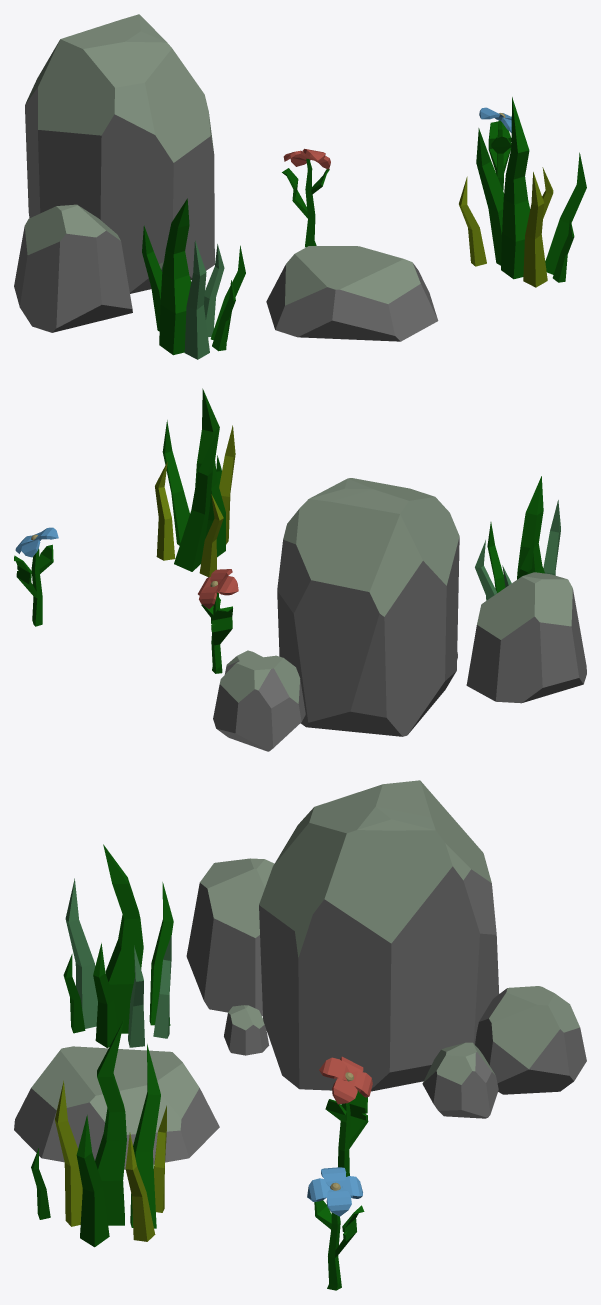
File: stouns.fbx
The picture shows the model from 3 angles, top to bottom: view 1: azimuth 30°, elevation 25°; view 2: azimuth 150°, elevation 25°; view 3: azimuth 270°, elevation 25°; orthographic projection. The views are drawn at different scales.
Parts seen in each view (by area): view 1: Rock.003, Rock, Rock-2, Grass, Grass-2, Flower-1, Flower-2; view 2: Rock.003, Rock-2, Grass, Rock.002, Grass-2, Flower-1, Flower-2; view 3: Rock.003, Rock, Grass, Grass-2, Rock-2, Rock.002, Rock.001, Flower-2, Flower-1, Rock-2.001.
Boxes of the visible parts, x1,y1,x2,y2 form: Rock.003: (25, 14, 214, 293); Rock: (266, 246, 438, 341); Rock-2: (14, 204, 132, 332); Grass: (459, 97, 586, 287); Grass-2: (142, 198, 245, 359); Flower-1: (282, 148, 330, 247); Flower-2: (479, 107, 511, 190); Rock.003: (277, 478, 459, 736); Rock-2: (466, 572, 586, 703); Grass: (155, 388, 235, 577); Rock.002: (213, 655, 305, 751); Grass-2: (475, 476, 560, 600); Flower-1: (198, 569, 238, 673); Flower-2: (14, 527, 58, 626); Rock.003: (259, 780, 499, 1091); Rock: (14, 1046, 219, 1169); Grass: (31, 1020, 166, 1247); Grass-2: (63, 844, 173, 1047); Rock-2: (186, 858, 274, 1016); Rock.002: (475, 986, 586, 1094); Rock.001: (422, 1042, 498, 1118); Flower-2: (307, 1167, 364, 1290); Flower-1: (319, 1056, 372, 1176); Rock-2.001: (224, 1005, 269, 1055).
Size of the model in its own units: 314 by 134 by 250.
